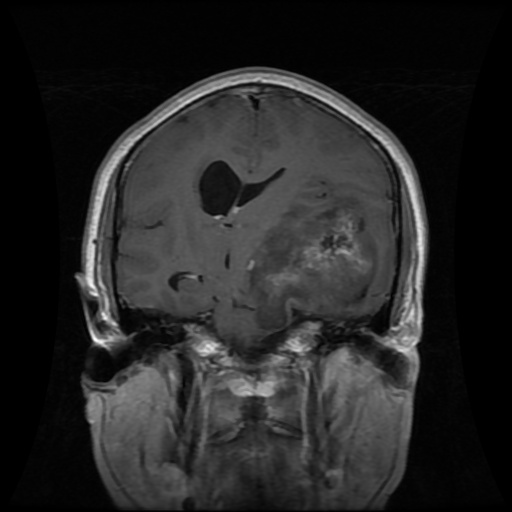glioma: (246, 174, 376, 329)
